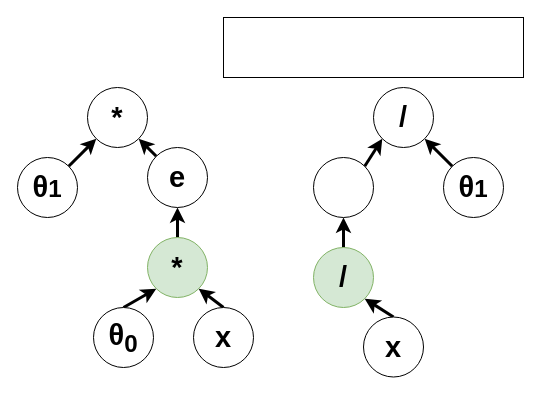
This 541x395 diagram has some shape labels left out. Here are the shapes that lost their labels. From the top down, the centre of each, then its label:
At (x=373, y=47): "mul with θ 0 to the left".
At (x=343, y=187): "ln".
